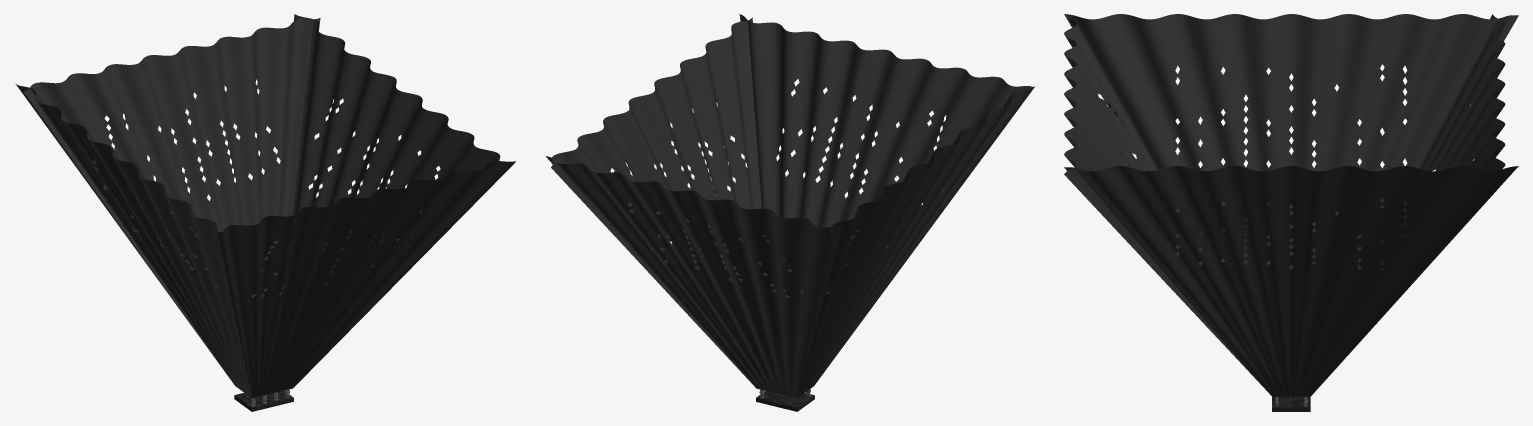
The model's file is project2.glb.
3 renders of one model, left to right at view 1: azimuth 30°, elevation 25°; view 2: azimuth 150°, elevation 25°; view 3: azimuth 270°, elevation 25°, orthographic. The views are drawn at different scales.
Visible parts, largest first — view 1: Object_7; view 2: Object_7; view 3: Object_7.
Boxes of the visible parts, <box> form: Object_7: <box>16,14,515,411</box>; Object_7: <box>546,14,1034,411</box>; Object_7: <box>1064,14,1518,411</box>.
Bounding box in the file's own units: 15.7 × 13.98 × 18.8.
Materials: 3 (2 with a texture image).
